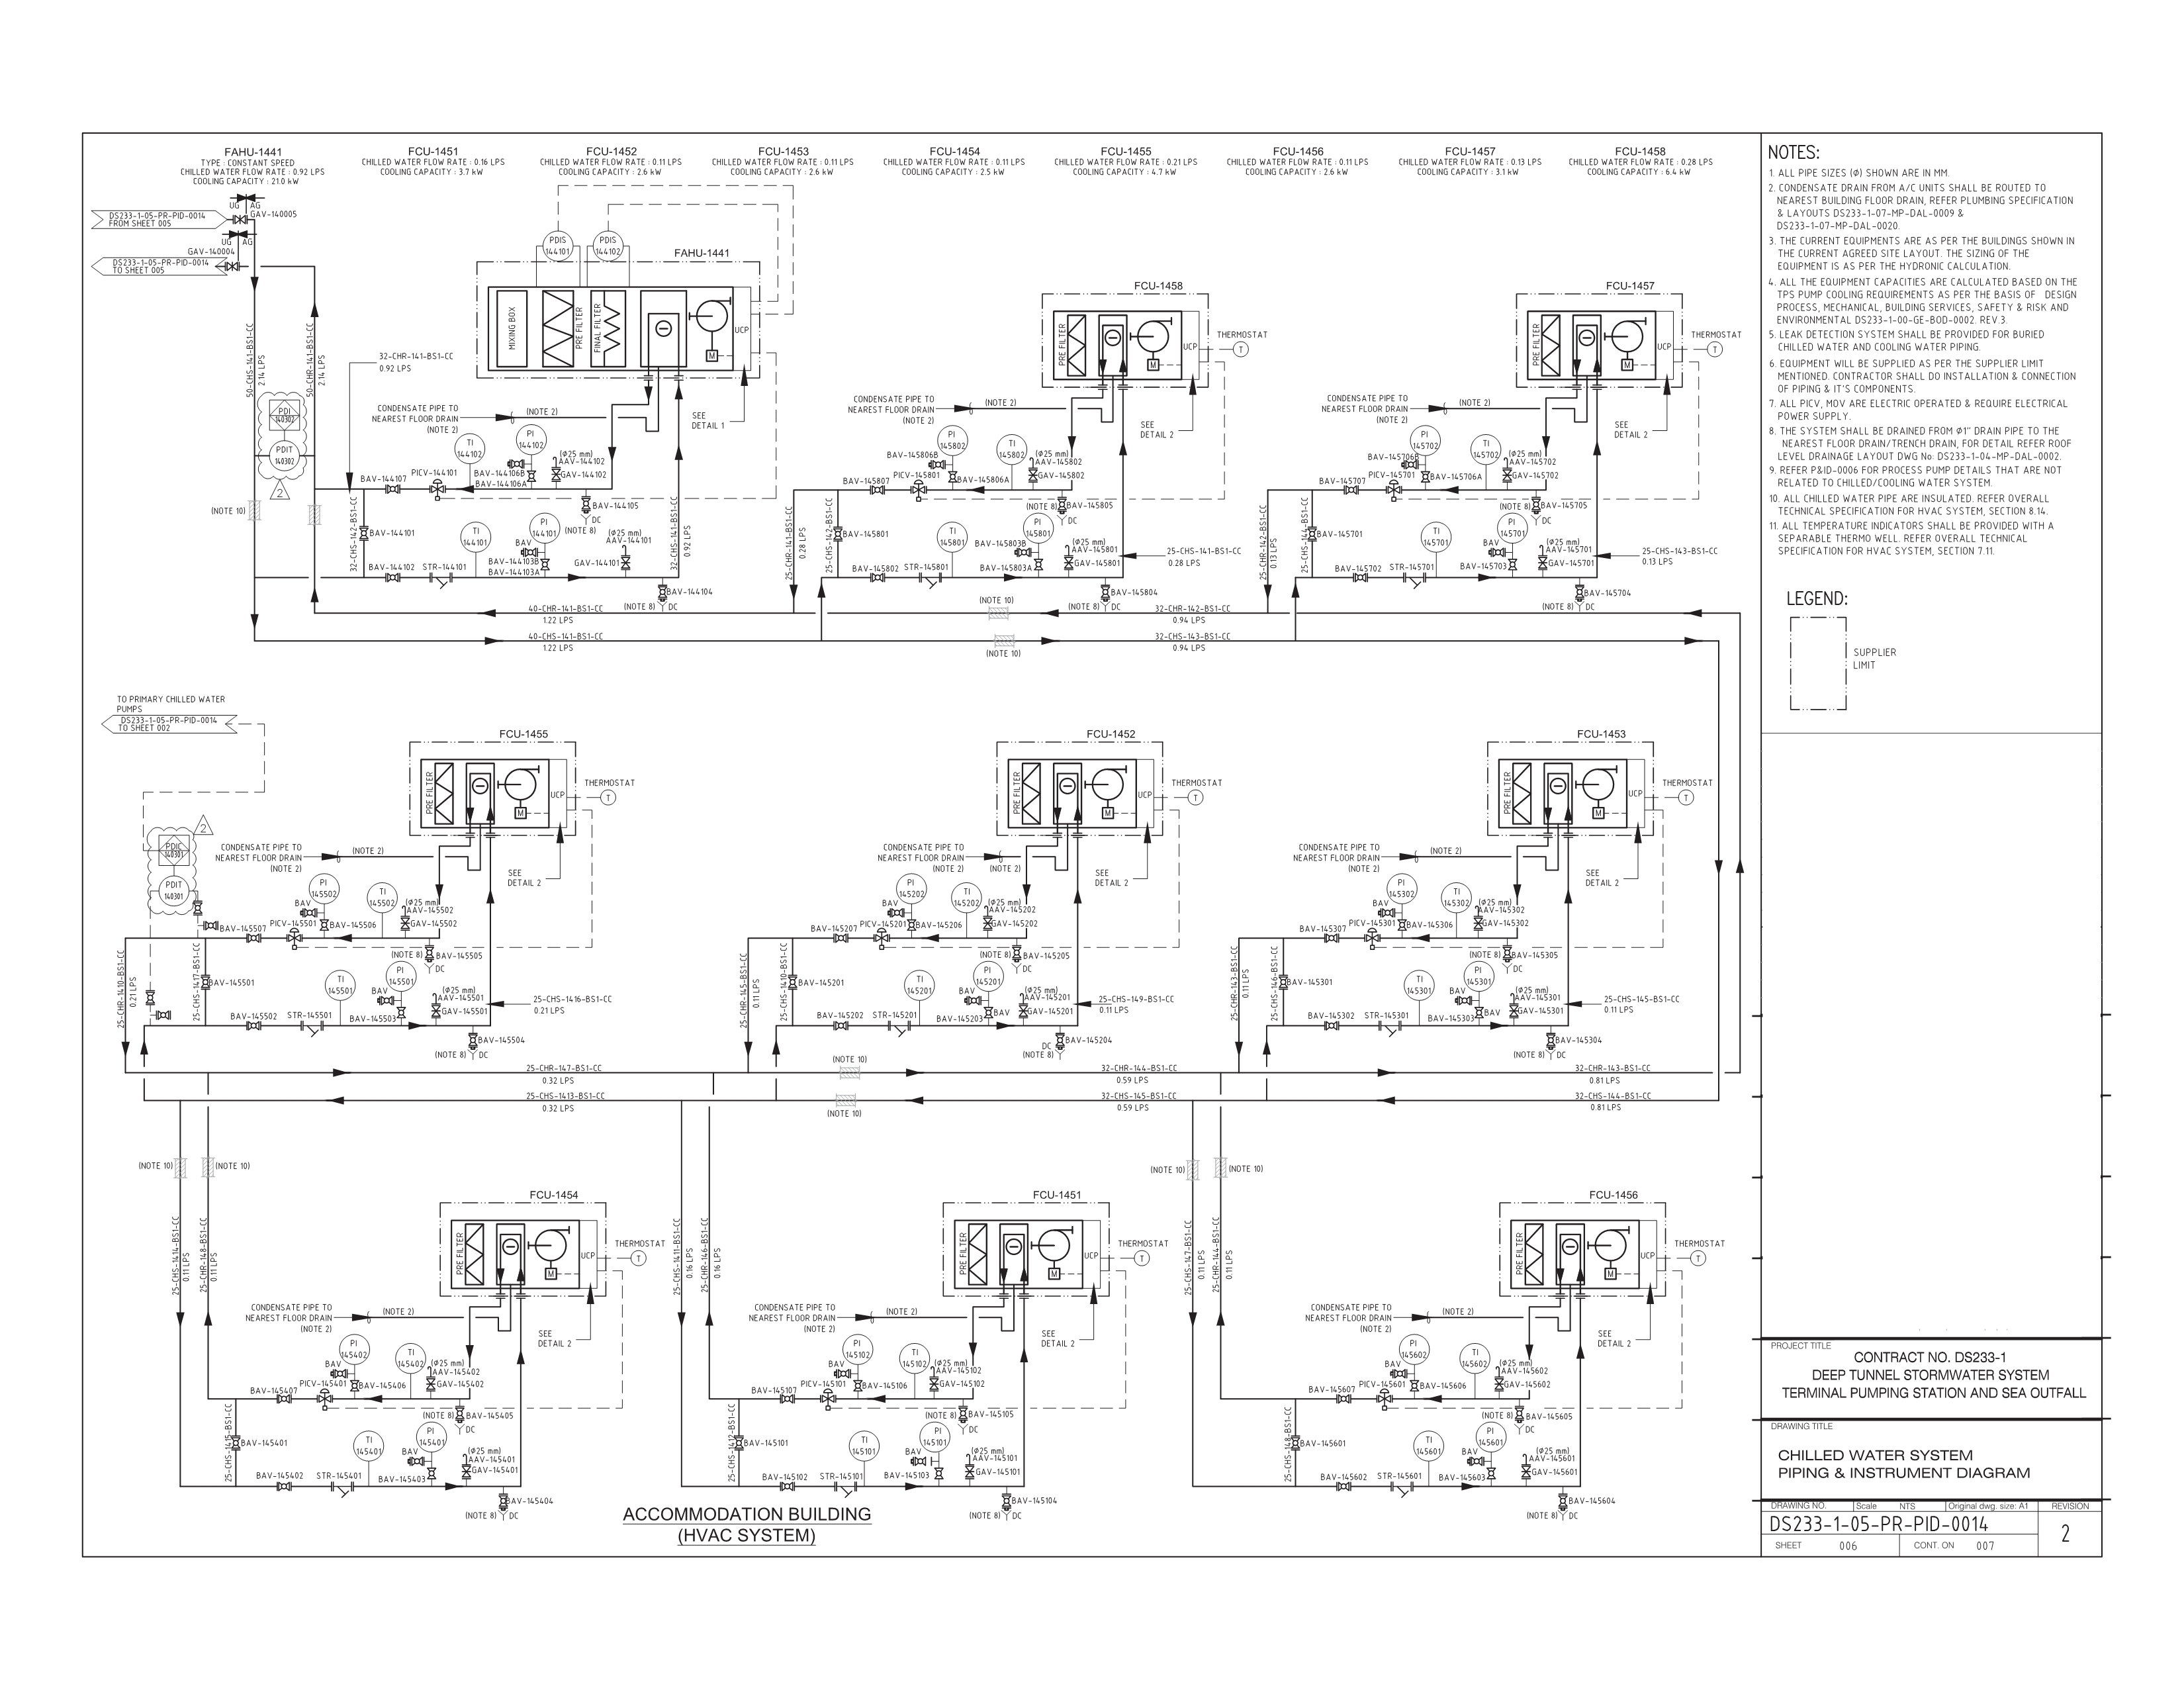Inline Instrument: (846, 1429, 881, 1463), (1411, 1429, 1447, 1463), (1397, 1333, 1432, 1367), (902, 966, 936, 1000), (308, 872, 342, 906), (353, 1429, 386, 1463), (899, 1340, 932, 1374), (918, 1418, 952, 1452), (1457, 1342, 1491, 1376), (1475, 1420, 1509, 1454), (895, 872, 931, 904), (530, 511, 562, 544), (459, 520, 491, 553), (1496, 511, 1528, 544), (971, 961, 1005, 993), (950, 881, 984, 913), (385, 961, 418, 993), (324, 970, 358, 1002), (367, 881, 401, 913), (158, 876, 191, 908), (339, 1333, 372, 1365), (395, 1342, 429, 1374), (415, 1420, 448, 1452), (840, 1335, 874, 1367), (899, 1340, 932, 1372), (897, 1339, 931, 1371), (269, 440, 301, 472), (454, 433, 486, 465), (514, 422, 546, 454), (542, 229, 574, 261), (592, 231, 624, 262), (936, 424, 968, 456), (938, 520, 970, 551), (1023, 512, 1055, 544), (996, 433, 1028, 465), (1409, 424, 1441, 456), (1471, 433, 1503, 465), (1441, 881, 1473, 913), (1462, 959, 1494, 991), (1404, 970, 1436, 1002), (1422, 520, 1452, 551), (1388, 872, 1418, 904)
